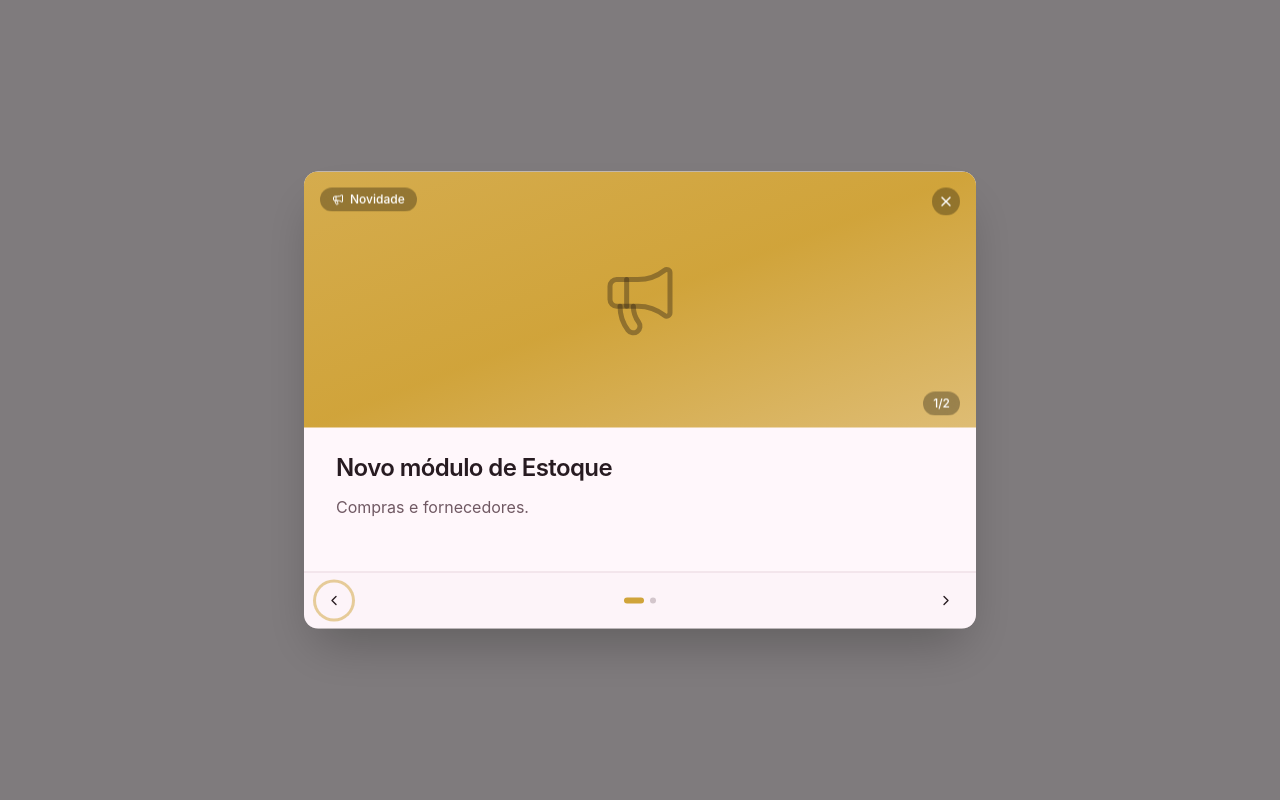
Scenario: CarrosselAvisos › navega entre slides e mostra o link do aviso
Expected: the heading "Novo módulo de Estoque" is shown, top-left (336, 452), bottom-right (612, 482)
Step 1. Click the button named "próximo aviso" → (946, 600), box top-left (928, 582), bottom-right (964, 618)
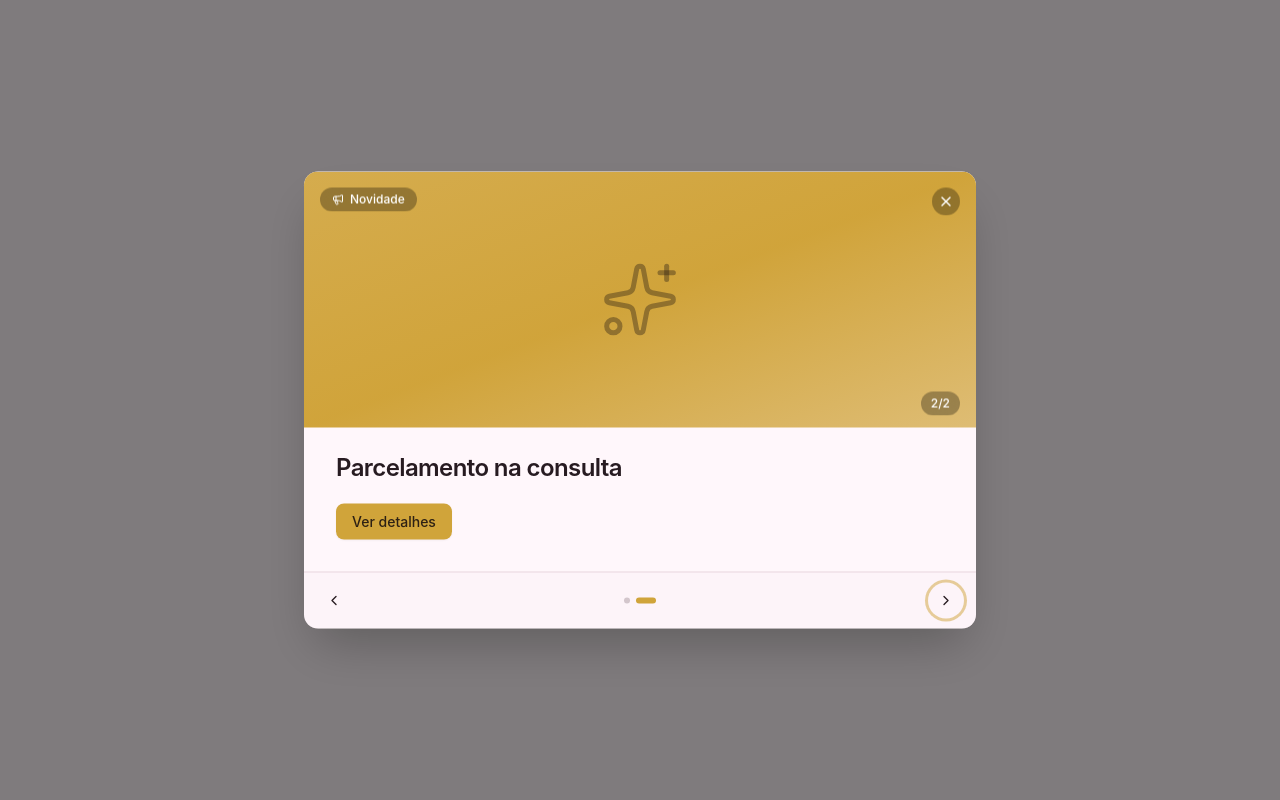
Expected: the heading "Parcelamento na consulta" is shown, top-left (336, 452), bottom-right (622, 482)
Step 2. Click the button named "aviso anterior" → (334, 600), box top-left (316, 582), bottom-right (352, 618)
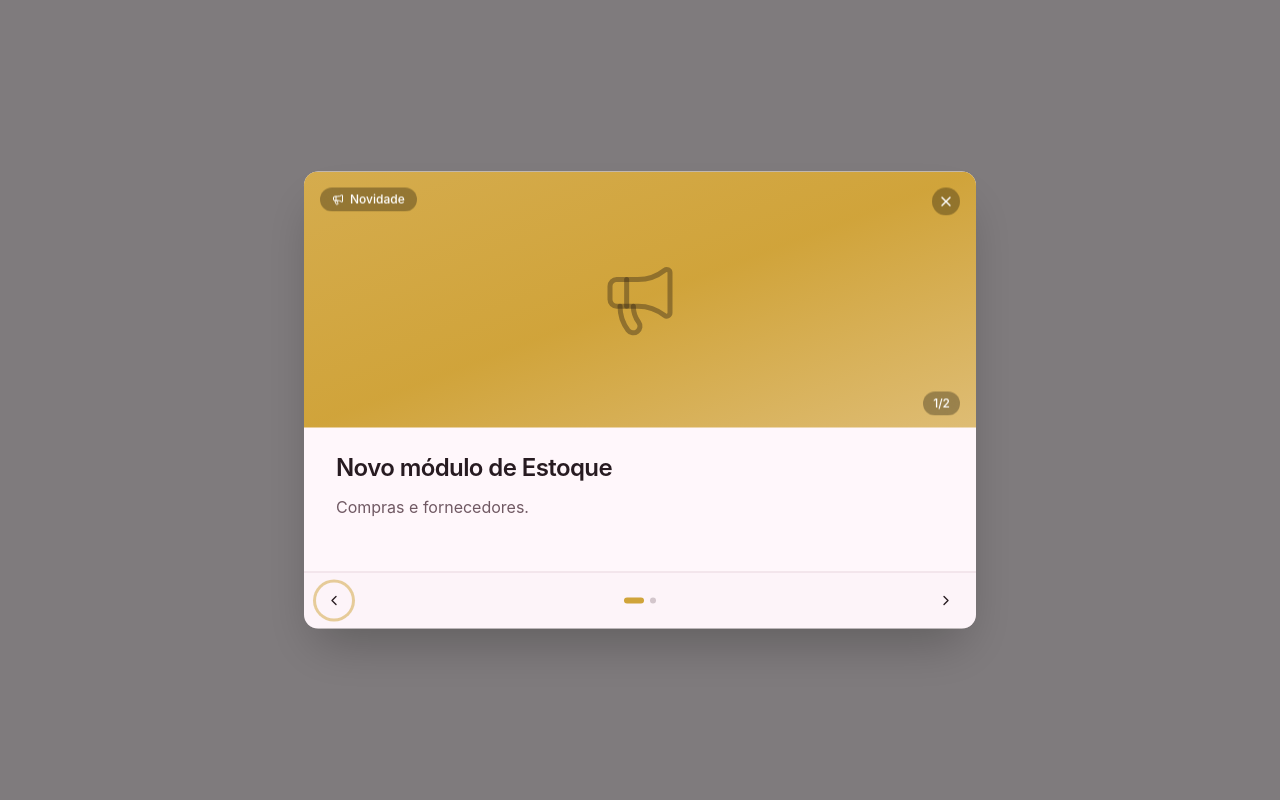
Expected: the heading "Novo módulo de Estoque" is shown, top-left (336, 452), bottom-right (612, 482)
